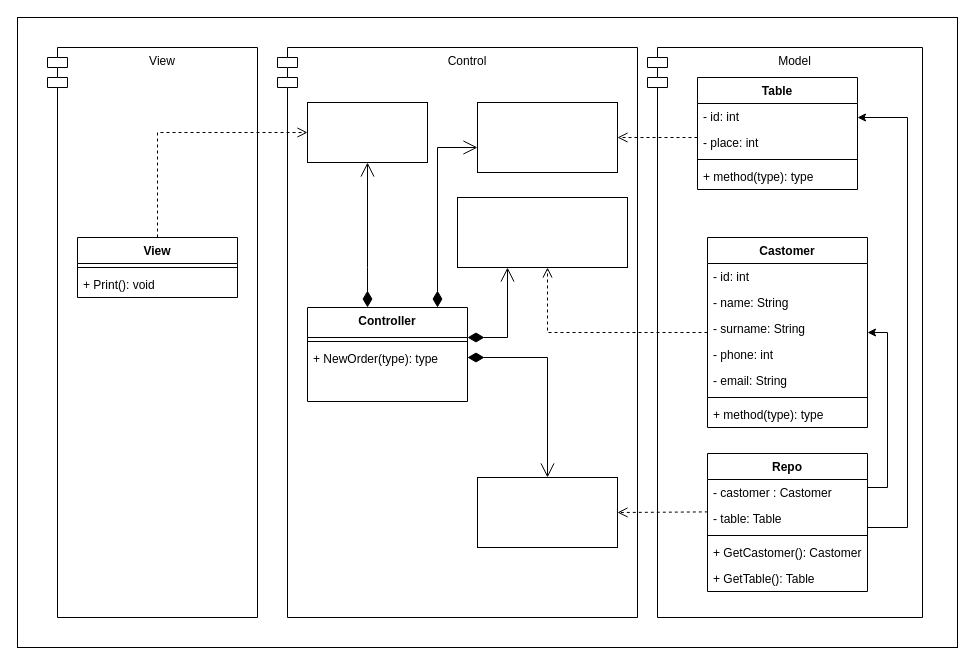
Some shapes in this 975 by 665 pixel diagram are drawn without their labels. Each missing label, with the centre of its shape:
<<Interface>> iCastomer + InsertCastomer(Type): Type: pixel 542 232
<<Interface>> iRepo + method1(Type): Type: pixel 547 512
<<Interface>> iTable + InsertTable(Type): Type: pixel 547 137
<<Interface>> iView + Print(): void: pixel 367 132
